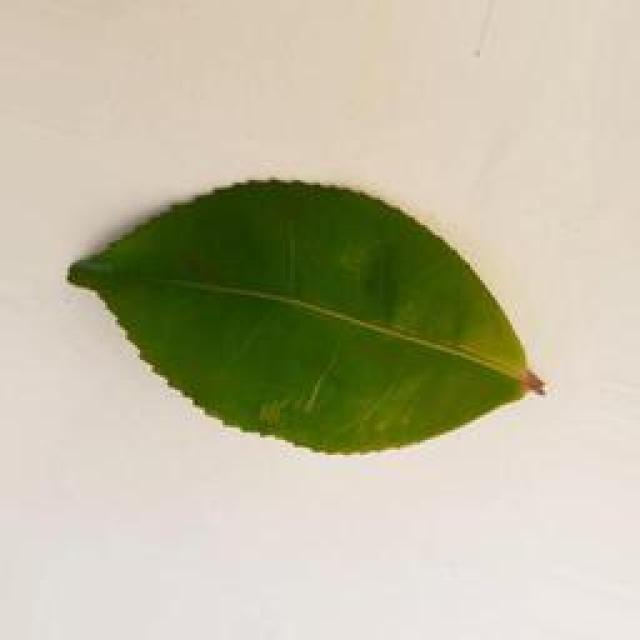Healthy: (61, 172, 553, 459)
